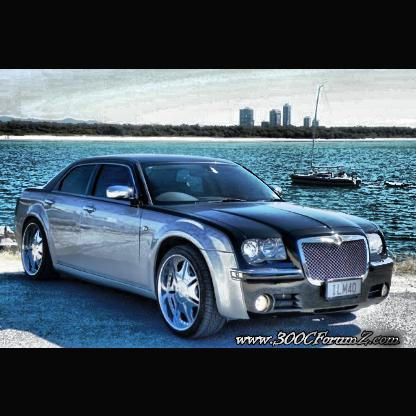Chrysler 300 SRT-8 2010: (14, 154, 395, 343)
